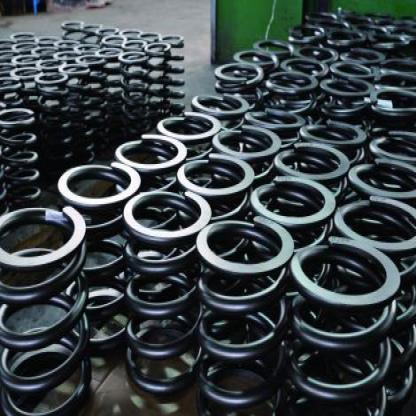FOD: (192, 214, 297, 414), (286, 236, 402, 415), (0, 200, 93, 415), (120, 187, 212, 400), (56, 160, 143, 356), (0, 103, 41, 205), (160, 33, 186, 118)
